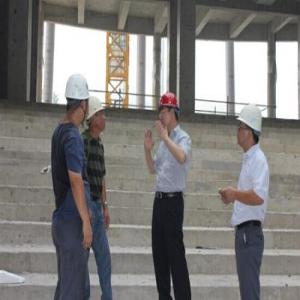red: (158, 93, 181, 134)
white: (65, 72, 91, 125), (236, 103, 263, 152), (86, 95, 107, 137)
